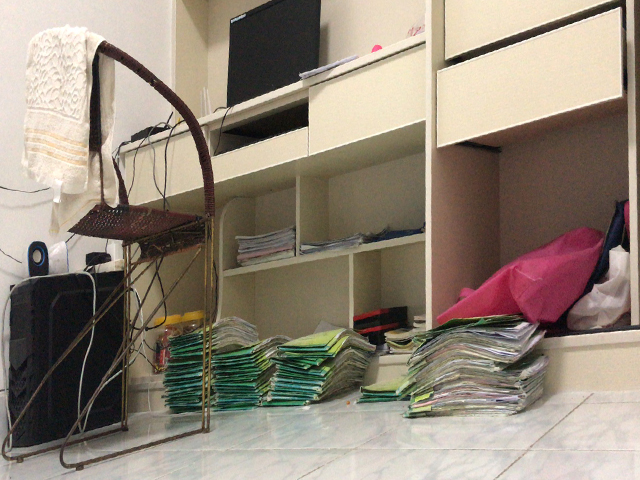book: (161, 313, 552, 420)
cabinet: (122, 1, 640, 406)
wire: (58, 254, 174, 444), (112, 127, 178, 201)
